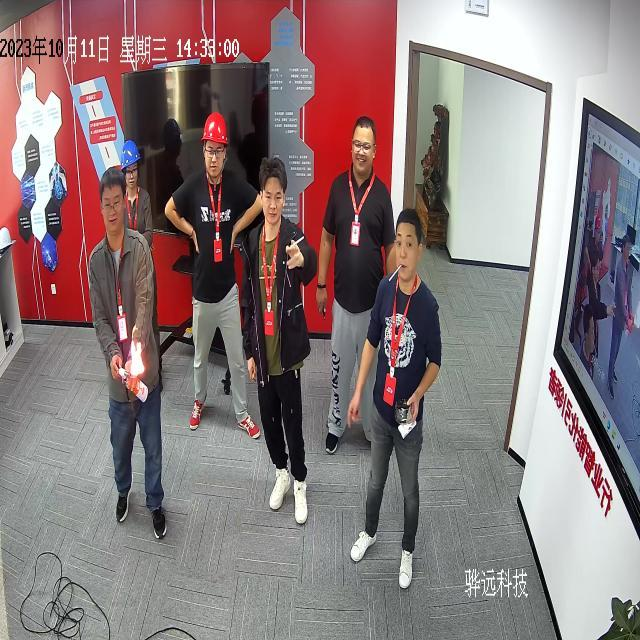Fire: (129, 340, 144, 376)
